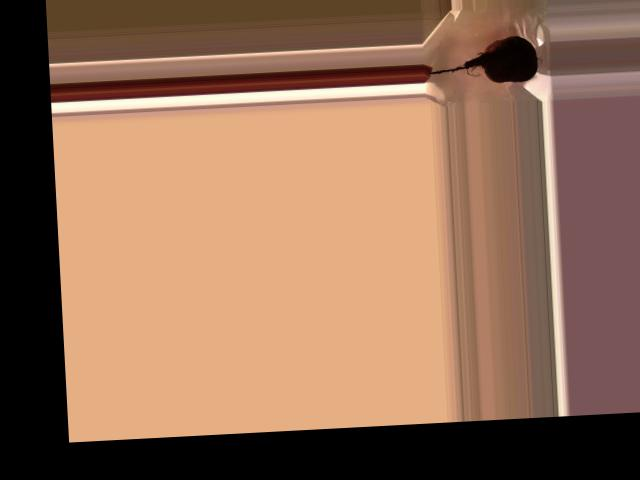beet: (426, 34, 538, 86)
